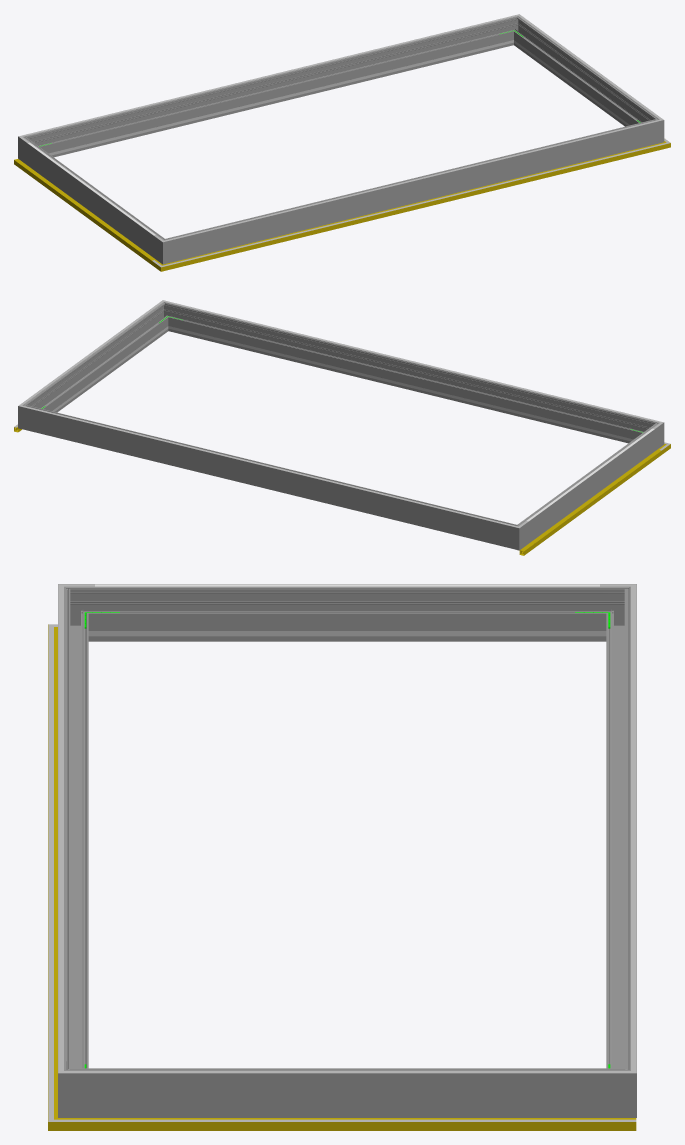
3 views of the same model, one above another, from view 1: azimuth 30°, elevation 25°; view 2: azimuth 150°, elevation 25°; view 3: azimuth 270°, elevation 25° (orthographic). The views are drawn at different scales.
Visible parts, largest first — view 1: 3DGeom-276, 3DGeom-298, 3DGeom-297, 3DGeom-268, 3DGeom-11, 3DGeom-244, 3DGeom-6, 3DGeom-20, 3DGeom-304, 3DGeom-316, 3DGeom-270, 3DGeom-290 (+3 smaller); view 2: 3DGeom-298, 3DGeom-276, 3DGeom-297, 3DGeom-268, 3DGeom-239, 3DGeom-6, 3DGeom-304, 3DGeom-316, 3DGeom-278, 3DGeom-25, 3DGeom-284, 3DGeom-313 (+1 smaller); view 3: 3DGeom-268, 3DGeom-297, 3DGeom-298, 3DGeom-276, 3DGeom-16, 3DGeom-20, 3DGeom-304, 3DGeom-316, 3DGeom-232, 3DGeom-11, 3DGeom-284, 3DGeom-290 (+5 smaller).
Boxes of the visible parts, left/top/right/bottom form: 3DGeom-276: left=35, top=19, right=511, bottom=157; 3DGeom-298: left=176, top=122, right=648, bottom=260; 3DGeom-297: left=515, top=21, right=652, bottom=126; 3DGeom-268: left=27, top=142, right=158, bottom=257; 3DGeom-11: left=175, top=145, right=654, bottom=267; 3DGeom-244: left=54, top=44, right=498, bottom=154; 3DGeom-6: left=14, top=159, right=155, bottom=264; 3DGeom-20: left=176, top=146, right=654, bottom=263; 3DGeom-304: left=34, top=18, right=504, bottom=133; 3DGeom-316: left=178, top=123, right=647, bottom=238; 3DGeom-270: left=153, top=234, right=178, bottom=264; 3DGeom-290: left=645, top=114, right=664, bottom=145; 3DGeom-298: left=171, top=305, right=646, bottom=443; 3DGeom-276: left=34, top=407, right=506, bottom=546; 3DGeom-297: left=30, top=307, right=166, bottom=412; 3DGeom-268: left=524, top=428, right=654, bottom=543; 3DGeom-239: left=184, top=330, right=627, bottom=440; 3DGeom-6: left=519, top=449, right=661, bottom=555; 3DGeom-304: left=34, top=409, right=504, bottom=524; 3DGeom-316: left=178, top=304, right=647, bottom=419; 3DGeom-278: left=503, top=520, right=528, bottom=550; 3DGeom-25: left=521, top=450, right=661, bottom=551; 3DGeom-284: left=18, top=400, right=36, bottom=431; 3DGeom-313: left=526, top=428, right=654, bottom=521; 3DGeom-268: left=95, top=584, right=599, bottom=641; 3DGeom-297: left=95, top=1068, right=599, bottom=1117; 3DGeom-298: left=58, top=599, right=88, bottom=1068; 3DGeom-276: left=606, top=599, right=636, bottom=1068; 3DGeom-16: left=85, top=1118, right=636, bottom=1130; 3DGeom-20: left=48, top=640, right=53, bottom=1106; 3DGeom-304: left=631, top=599, right=636, bottom=1057; 3DGeom-316: left=58, top=599, right=63, bottom=1057; 3DGeom-232: left=124, top=631, right=570, bottom=636; 3DGeom-11: left=48, top=640, right=57, bottom=1106; 3DGeom-284: left=600, top=1058, right=636, bottom=1117; 3DGeom-290: left=58, top=1058, right=94, bottom=1117.
Bounding box in the file's own units: 4.88 × 0.2434 × 2.44.
